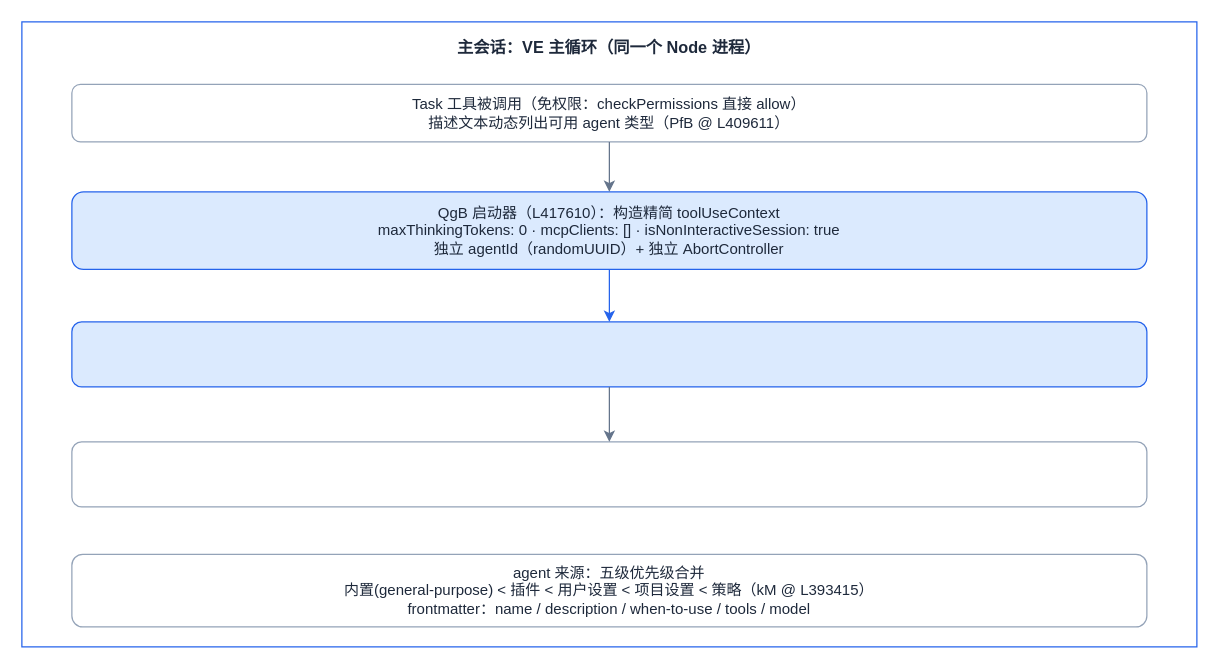
This 1219x669 diagram has some shape labels left out. The shapes that lost their labels are listed below. From the top down, each one's centre as x and y in pixels, then its label:
At (609,354): "yield* VE(...) —— 直接复用主循环 generator subagent 跑的就是主会话那个函数，只是换了上下文".
At (609,474): "结果作为普通 tool_result 回填主循环 没有专门通信层、没有持久化，进程退出即蒸发".
